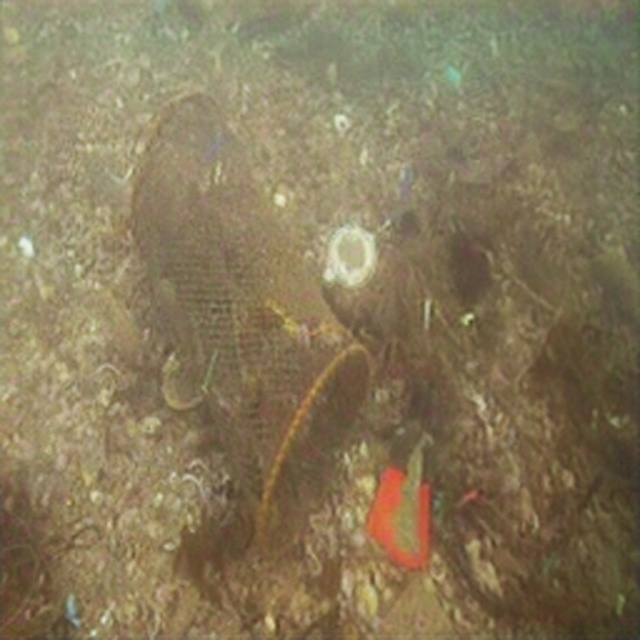mine: (128, 87, 372, 560)
